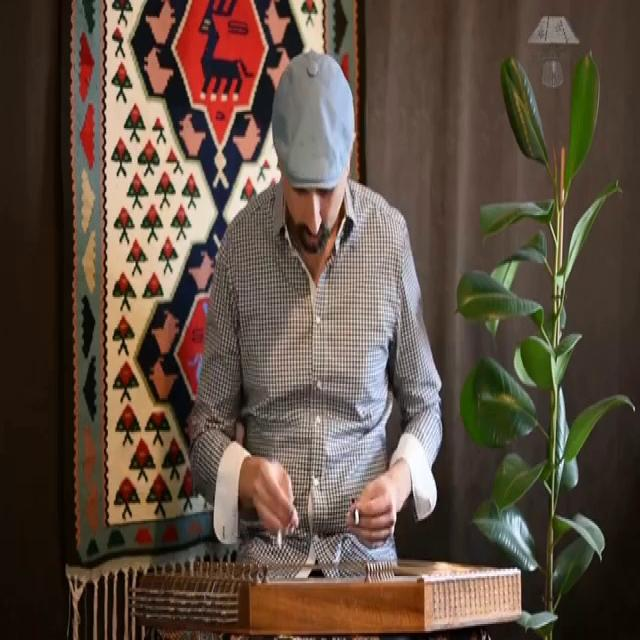Santur: (124, 559, 532, 630)
